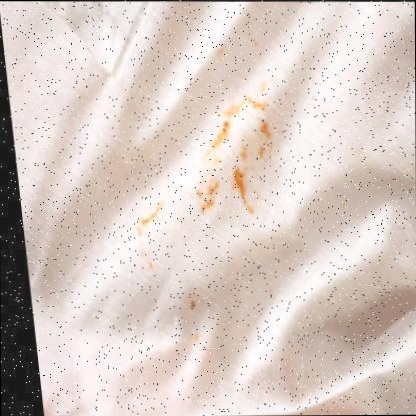kimchi: (186, 87, 296, 236), (123, 200, 175, 279), (187, 327, 213, 351), (186, 292, 208, 315), (211, 39, 228, 56), (249, 34, 260, 46)
